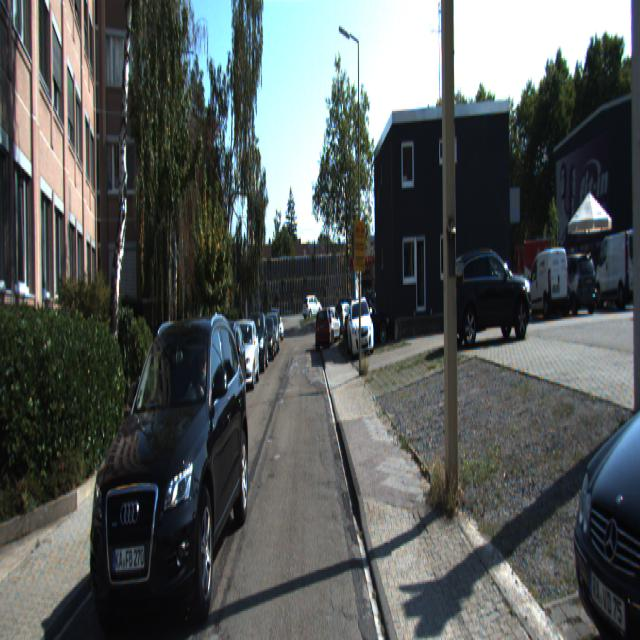Car: (74, 307, 254, 638), (548, 166, 640, 638), (144, 314, 221, 480), (444, 237, 536, 348), (196, 315, 248, 424), (594, 226, 640, 313), (547, 251, 599, 317), (525, 247, 570, 320), (226, 316, 260, 389), (344, 297, 390, 350), (347, 294, 374, 356), (244, 309, 269, 372), (314, 306, 333, 354), (302, 293, 322, 321)
